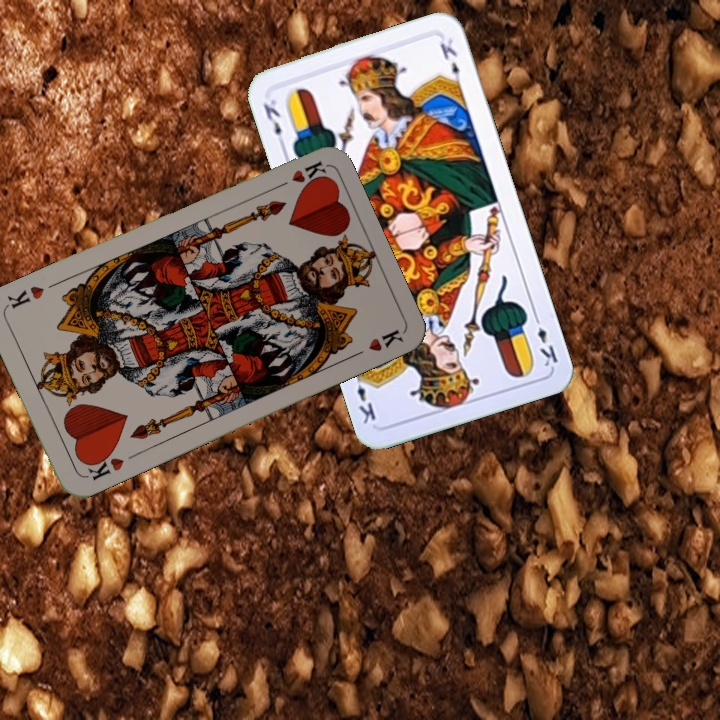EK: (529, 310, 561, 369), (259, 95, 289, 150)
HK: (270, 156, 328, 193), (81, 447, 126, 483)
